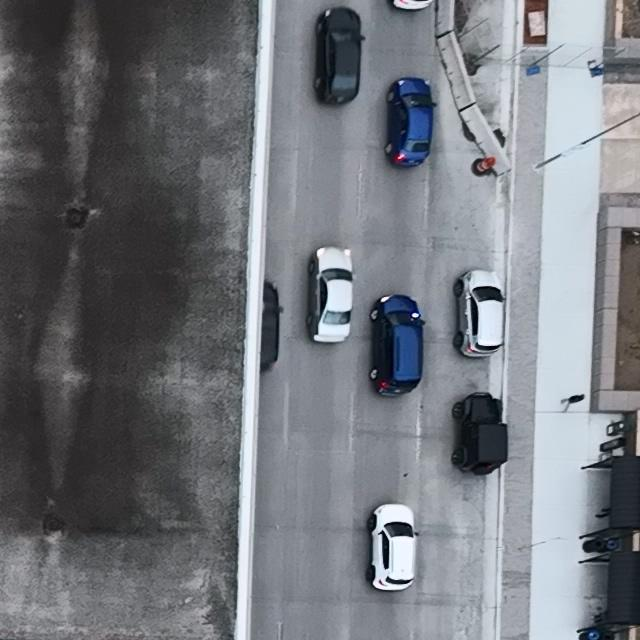car: (371, 293, 427, 396), (313, 5, 367, 105), (384, 76, 438, 169), (451, 391, 507, 476), (367, 503, 420, 592), (307, 246, 355, 344), (453, 270, 505, 358), (261, 281, 284, 371), (390, 0, 433, 11)
